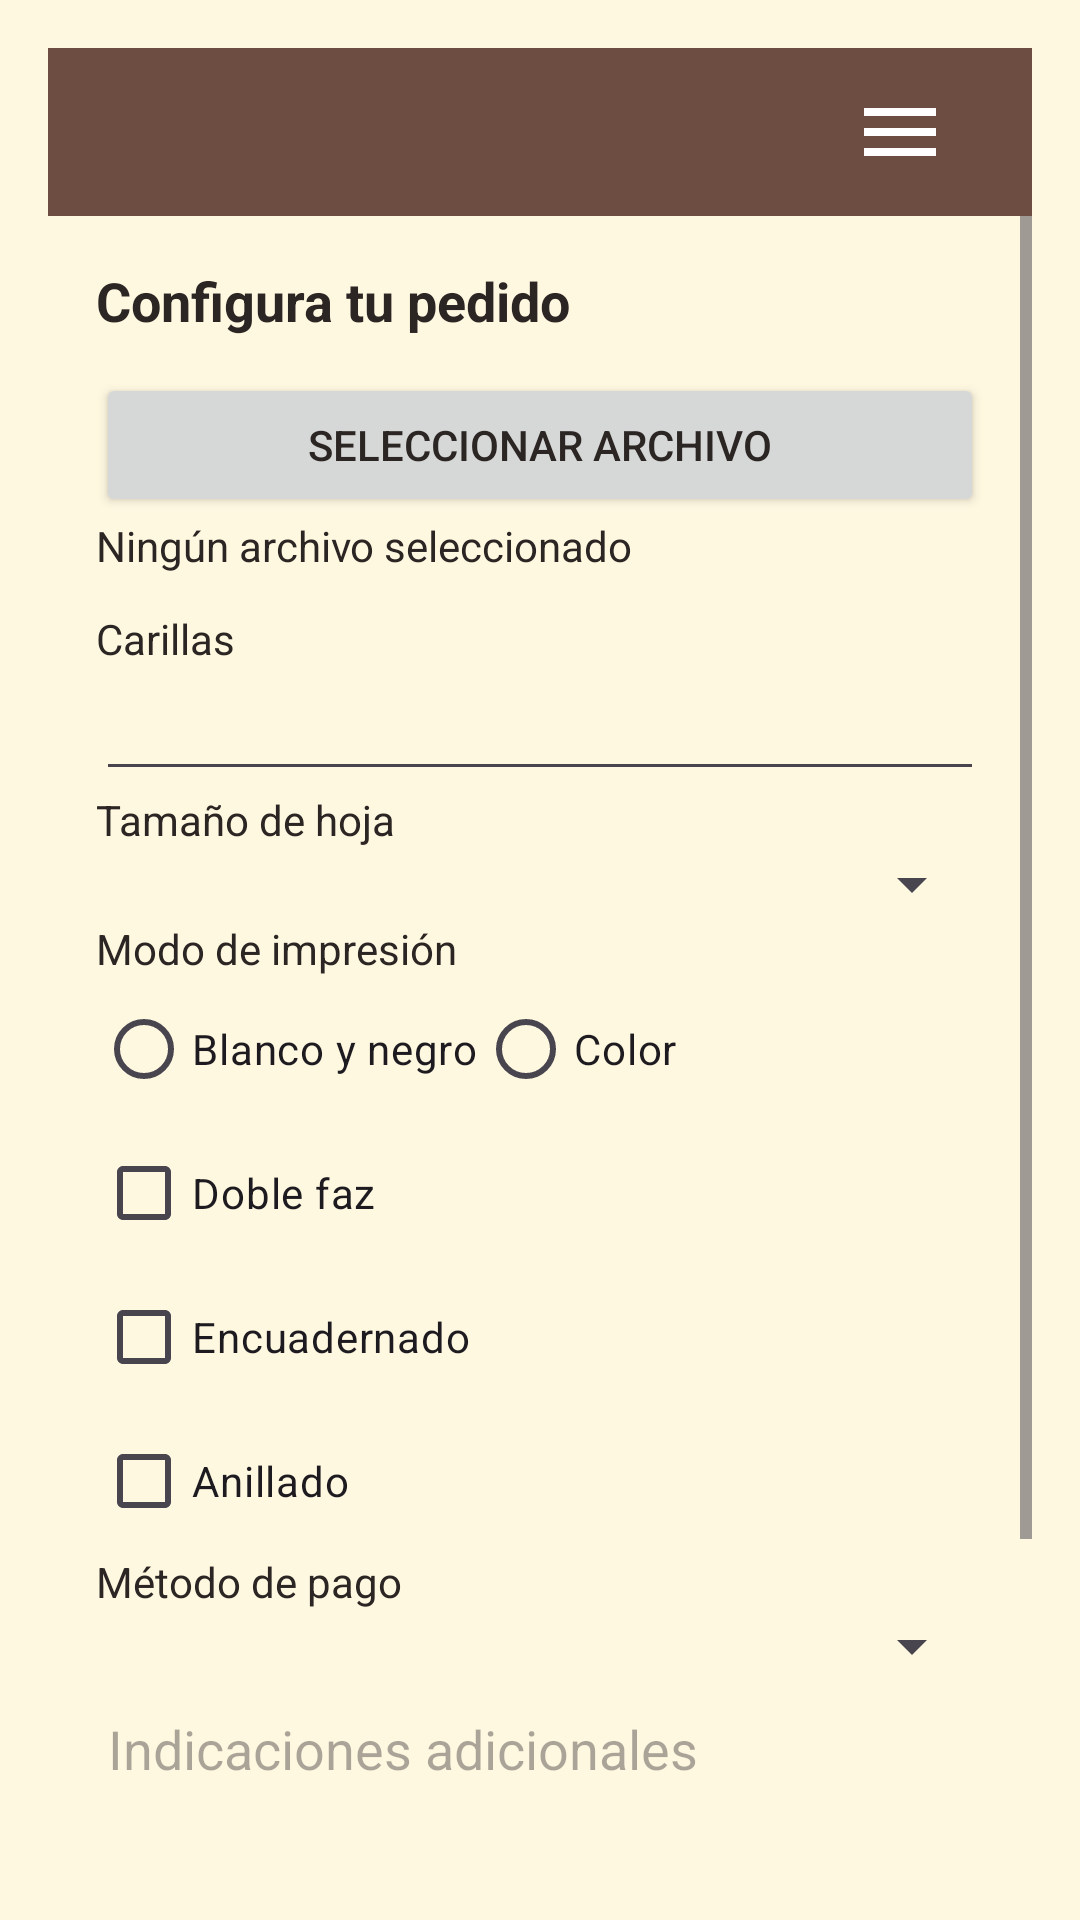

Named icons in this screenshot (1080px×1920px) and their bounding boxes, (x1, y1, x2, y2):
Menu: (864, 108, 936, 156)
